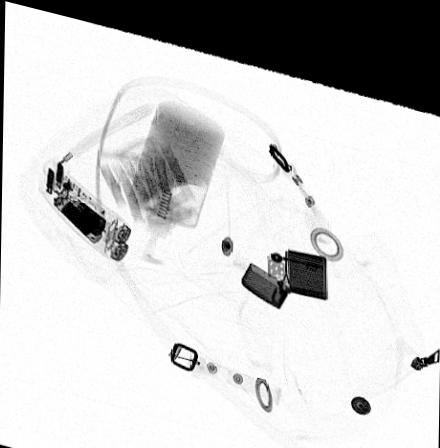Lighter: (239, 232, 326, 293)
